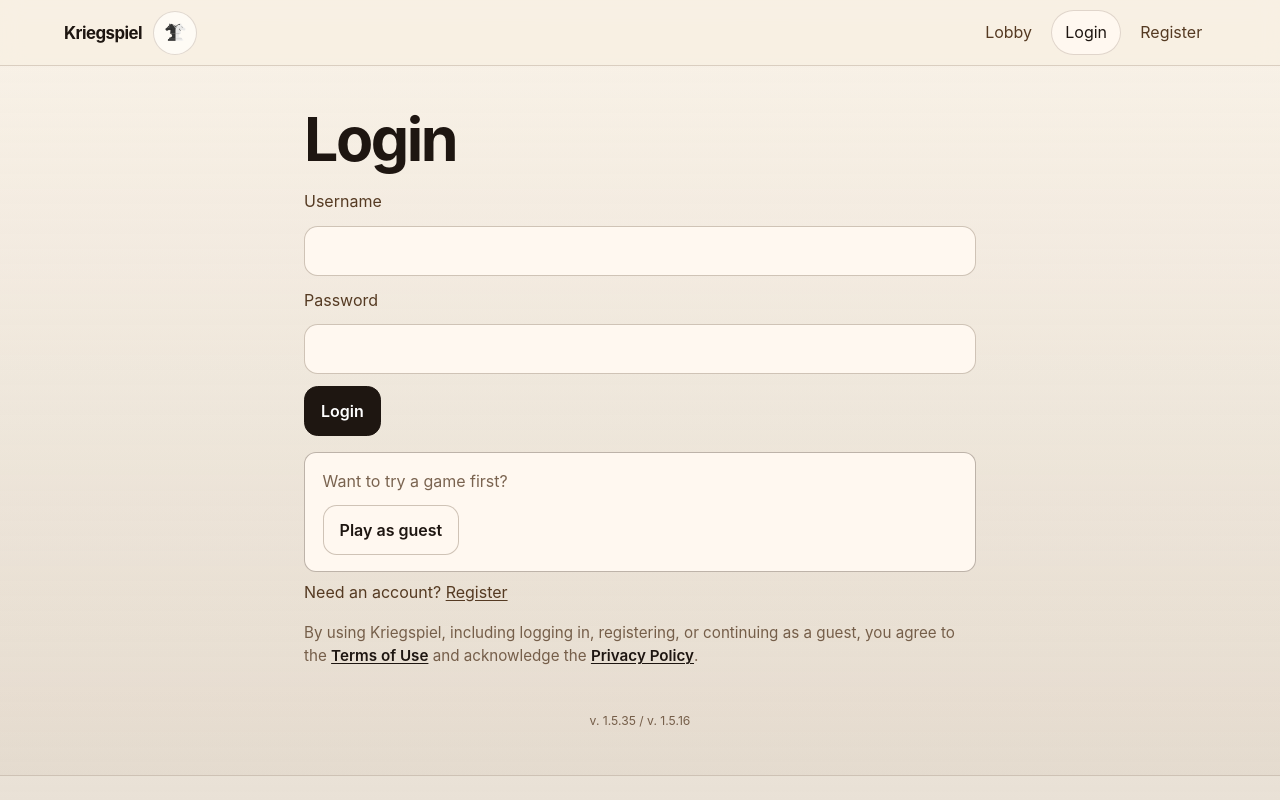
Scenario: App routes › starts_guest_play_from_login_and_enters_the_lobby
The width and height of the screenshot is (1280, 800).
Expected: the heading "Login" is shown, [304,102,456,176]
Click the button "Play as guest" at point(391, 530), box [323,505,459,555]
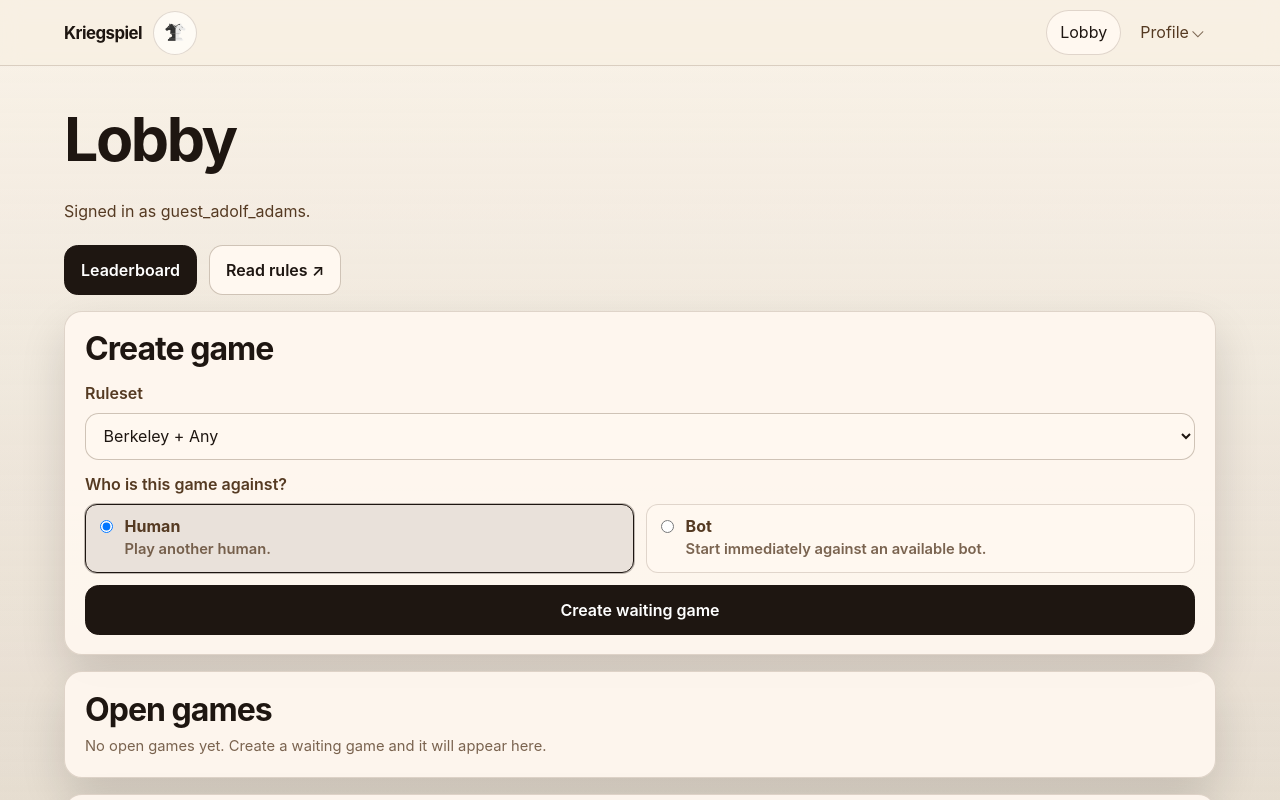
Expected: the heading "Lobby" is shown, [64,106,236,173]
Expected: the text "Signed in as guest_adolf_adams." is shown, [64,201,310,221]
